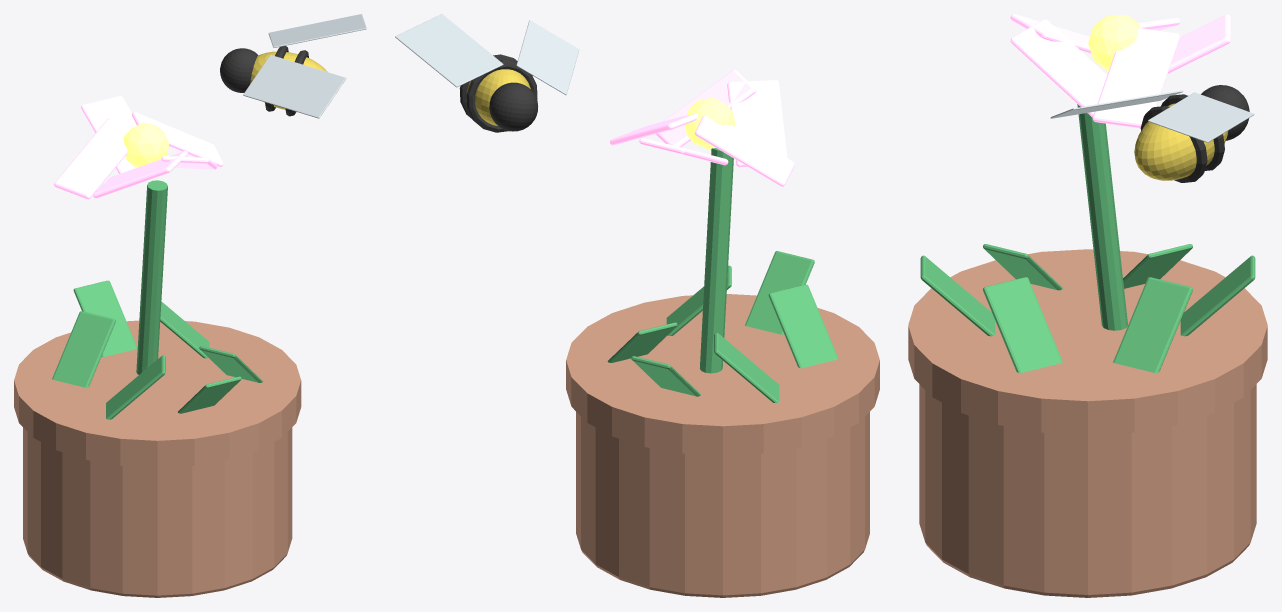
The model's file is greenhouse_botanical.glb.
3 views of the same model, side by side, from view 1: azimuth 30°, elevation 25°; view 2: azimuth 150°, elevation 25°; view 3: azimuth 270°, elevation 25° (orthographic). The views are drawn at different scales.
Visible parts, largest first — view 1: TerracottaPot, PotRim, FlowerStem, BeeWing_-1, OrchidPetal_4, PotLeaf_5, PotLeaf_0, BeeWing_1, FlowerStamen, OrchidPetal_0, OrchidPetal_3, OrchidPetal_1 (+7 smaller); view 2: TerracottaPot, PotRim, FlowerStem, BeeWing_1, PotLeaf_4, OrchidPetal_3, OrchidPetal_4, BeeWing_-1, PotLeaf_3, BeeHead, OrchidPetal_2, PotLeaf_5 (+8 smaller); view 3: TerracottaPot, PotRim, FlowerStem, OrchidPetal_1, PotLeaf_1, PotLeaf_2, OrchidPetal_2, BeeBody, BeeWing_1, PotLeaf_0, PotLeaf_3, FlowerStamen (+8 smaller).
Part boxes in pixels (x1=…): TerracottaPot: x1=23, y1=325, x2=292, y2=597; PotRim: x1=14, y1=320, x2=301, y2=467; FlowerStem: x1=136, y1=180, x2=167, y2=374; BeeWing_-1: x1=243, y1=55, x2=346, y2=118; OrchidPetal_4: x1=54, y1=118, x2=133, y2=199; PotLeaf_5: x1=52, y1=311, x2=115, y2=387; PotLeaf_0: x1=73, y1=280, x2=137, y2=356; BeeWing_1: x1=268, y1=14, x2=366, y2=47; FlowerStamen: x1=123, y1=123, x2=168, y2=167; OrchidPetal_0: x1=81, y1=96, x2=136, y2=173; OrchidPetal_3: x1=93, y1=151, x2=187, y2=198; OrchidPetal_1: x1=132, y1=112, x2=223, y2=166; TerracottaPot: x1=576, y1=301, x2=869, y2=597; PotRim: x1=566, y1=294, x2=879, y2=455; FlowerStem: x1=700, y1=148, x2=733, y2=373; BeeWing_1: x1=395, y1=14, x2=503, y2=87; PotLeaf_4: x1=768, y1=284, x2=838, y2=368; OrchidPetal_3: x1=727, y1=80, x2=787, y2=167; OrchidPetal_4: x1=695, y1=115, x2=794, y2=186; BeeWing_-1: x1=516, y1=20, x2=579, y2=94; PotLeaf_3: x1=745, y1=251, x2=814, y2=334; BeeHead: x1=489, y1=82, x2=538, y2=131; OrchidPetal_2: x1=655, y1=70, x2=756, y2=147; PotLeaf_5: x1=714, y1=332, x2=779, y2=402; TerracottaPot: x1=919, y1=257, x2=1256, y2=597; PotRim: x1=908, y1=249, x2=1267, y2=434; FlowerStem: x1=1077, y1=104, x2=1127, y2=330; OrchidPetal_1: x1=1092, y1=28, x2=1180, y2=128; PotLeaf_1: x1=1113, y1=277, x2=1192, y2=372; PotLeaf_2: x1=983, y1=277, x2=1062, y2=372; OrchidPetal_2: x1=1010, y1=19, x2=1107, y2=117; BeeBody: x1=1134, y1=103, x2=1228, y2=180; BeeWing_1: x1=1148, y1=92, x2=1254, y2=142; PotLeaf_0: x1=1180, y1=255, x2=1255, y2=336; PotLeaf_3: x1=920, y1=255, x2=995, y2=336; FlowerStamen: x1=1088, y1=15, x2=1141, y2=71.
Size of the model in its own units: 1.45 by 1.62 by 0.96.
